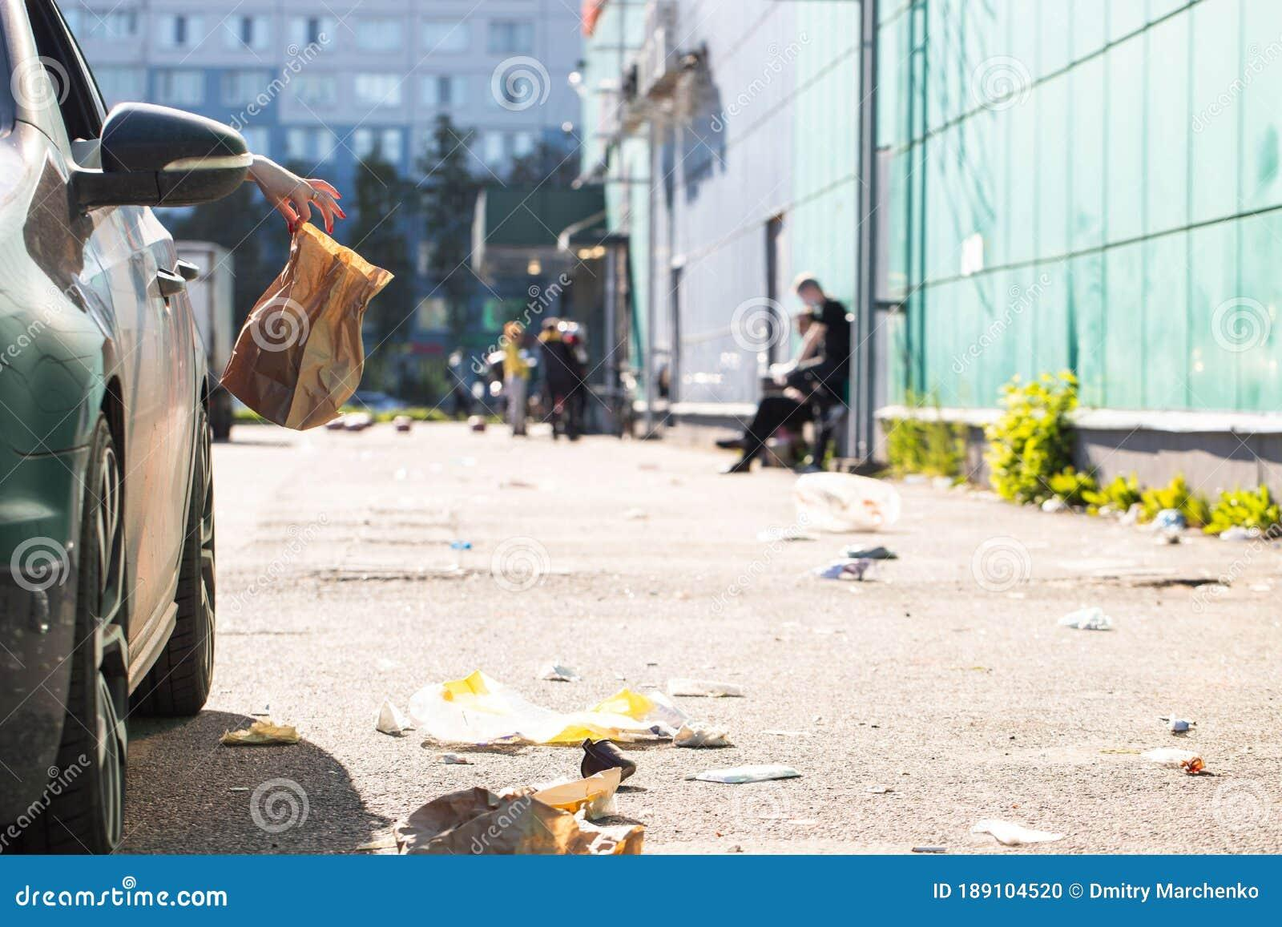road: (269, 481, 1282, 888)
trash: (282, 250, 362, 417), (425, 799, 613, 868), (422, 697, 668, 742)
